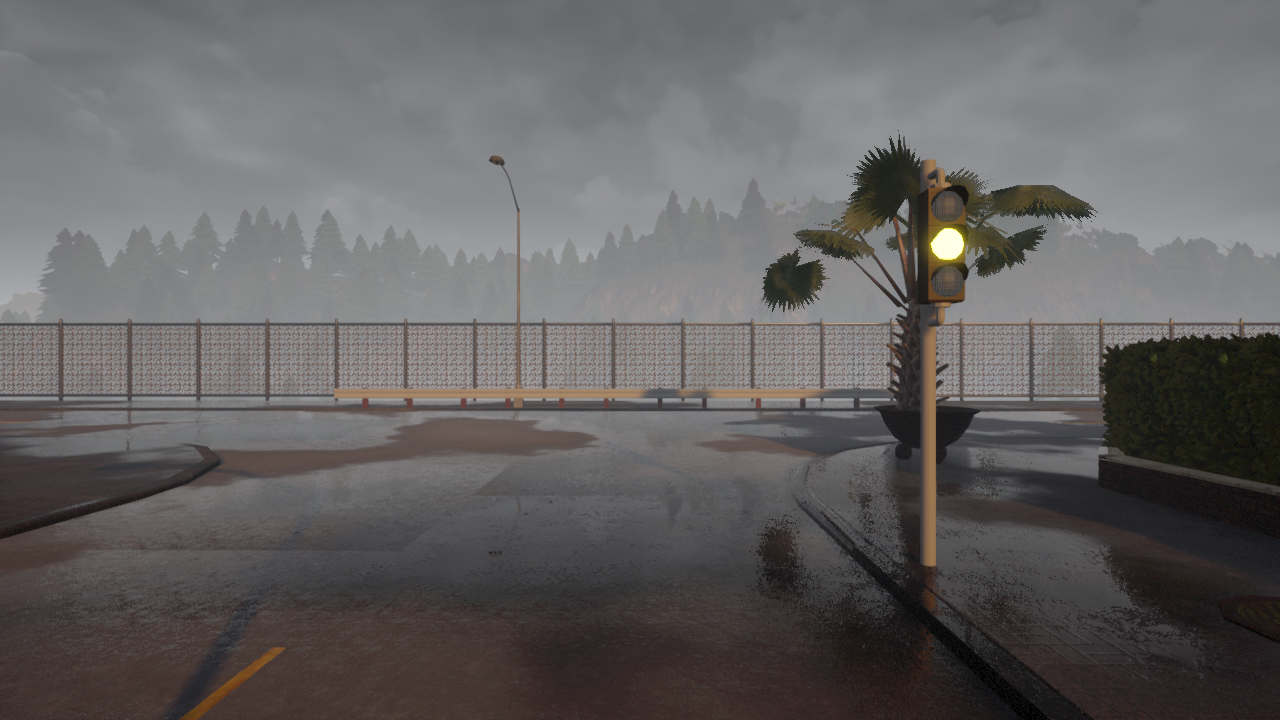yellow: (923, 183, 974, 302)
